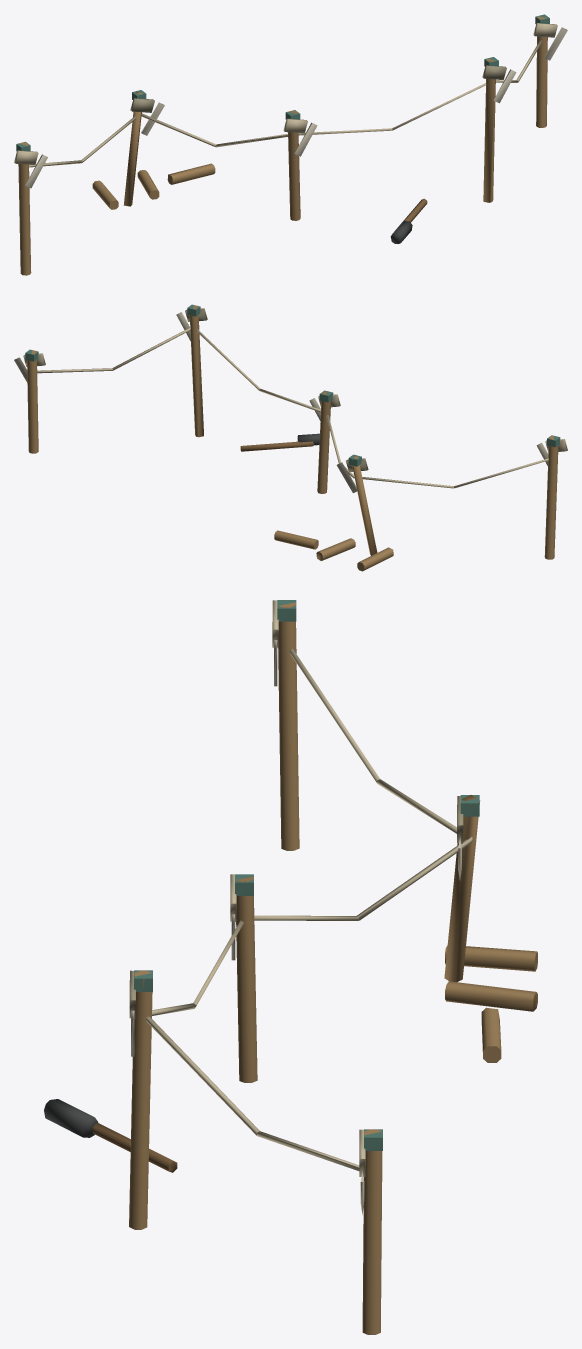
The model's file is survey_stakes_b_lod1.glb.
3 renders of one model, top to bottom at view 1: azimuth 30°, elevation 25°; view 2: azimuth 150°, elevation 25°; view 3: azimuth 270°, elevation 25°, orthographic. The views are drawn at different scales.
Visible parts, largest first — view 1: Surface.001; view 2: Surface.001; view 3: Surface.001.
Boxes of the visible parts, box(x1,y1,x2,y2) form: Surface.001: box(14, 14, 567, 275); Surface.001: box(14, 304, 567, 571); Surface.001: box(44, 600, 537, 1334).
Size of the model in its own units: 3.36 by 0.7771 by 1.35.
